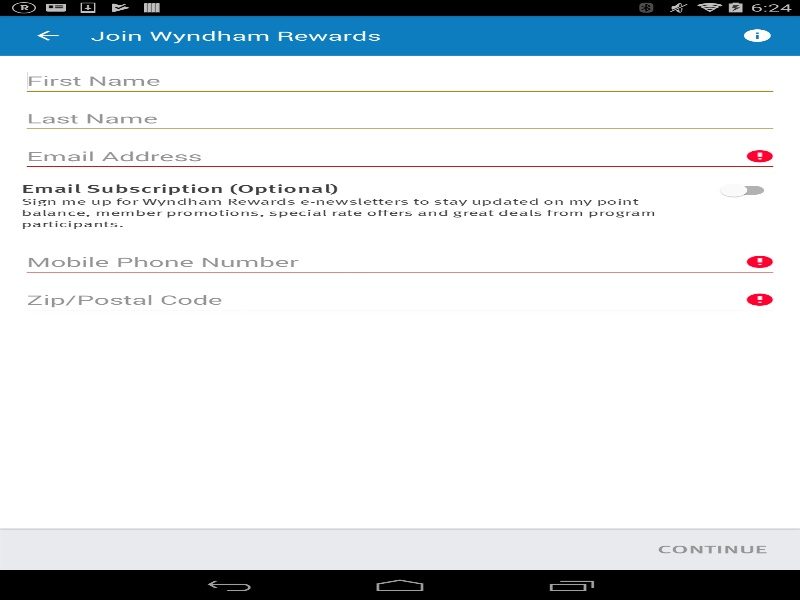Button: (646, 535, 778, 565), (10, 15, 85, 55)
Input: (21, 65, 778, 96), (21, 103, 778, 134), (21, 246, 778, 277), (21, 284, 778, 315), (21, 141, 778, 171)
